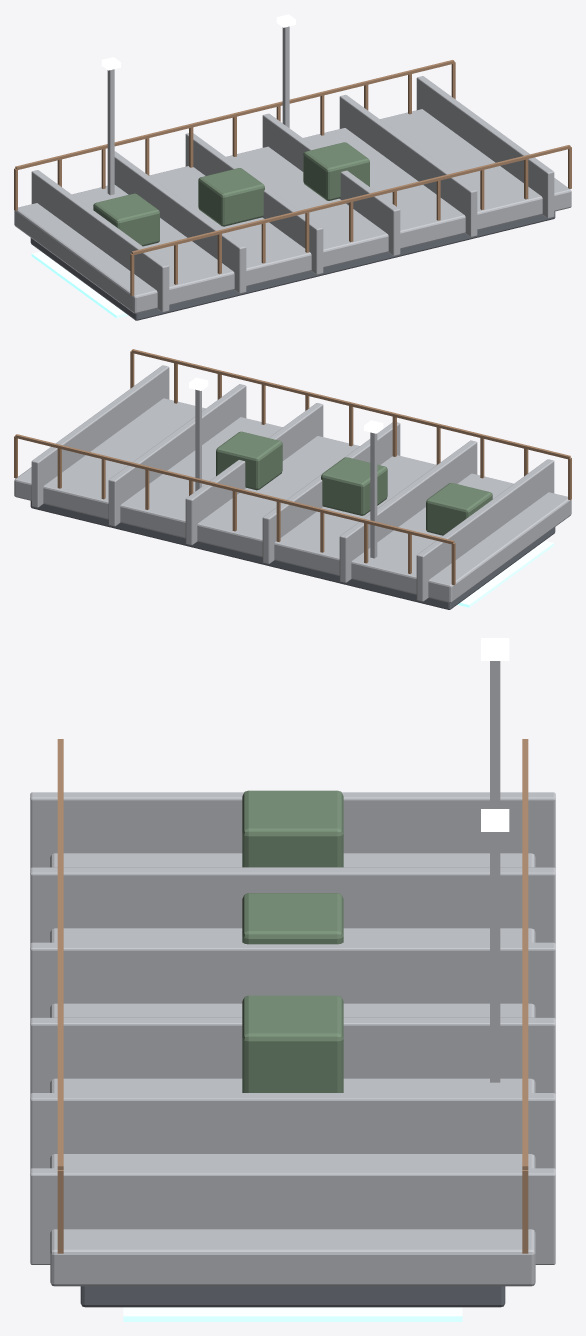
Rendered from bridgew_5.glb.
The picture shows the model from 3 angles, top to bottom: view 1: azimuth 30°, elevation 25°; view 2: azimuth 150°, elevation 25°; view 3: azimuth 270°, elevation 25°; orthographic projection. The views are drawn at different scales.
Visible parts, largest first — view 1: ext_bridge_floor, ext_bridge_ribs, ext_bridge_rail, ext_bridge_plants, ext_bridge_under, ext_bridge_glow, ext_lamp0, ext_lamp1; view 2: ext_bridge_floor, ext_bridge_ribs, ext_bridge_rail, ext_bridge_plants, ext_bridge_under, ext_bridge_glow, ext_lamp0, ext_lamp1; view 3: ext_bridge_ribs, ext_bridge_floor, ext_bridge_plants, ext_bridge_under, ext_bridge_rail, ext_bridge_glow, ext_lamp1, ext_lamp0.
Boxes of the visible parts, <box> form: ext_bridge_floor: <box>14,109,571,313</box>; ext_bridge_ribs: <box>31,76,554,312</box>; ext_bridge_rail: <box>14,60,571,295</box>; ext_bridge_plants: <box>93,142,369,246</box>; ext_bridge_under: <box>30,211,555,320</box>; ext_bridge_glow: <box>31,251,128,318</box>; ext_lamp0: <box>107,69,114,195</box>; ext_lamp1: <box>282,26,289,127</box>; ext_bridge_floor: <box>14,398,571,602</box>; ext_bridge_ribs: <box>31,365,554,601</box>; ext_bridge_rail: <box>14,349,571,585</box>; ext_bridge_plants: <box>216,431,492,535</box>; ext_bridge_under: <box>30,501,555,609</box>; ext_bridge_glow: <box>457,540,554,607</box>; ext_lamp0: <box>370,432,377,558</box>; ext_lamp1: <box>195,389,201,491</box>; ext_bridge_ribs: <box>30,792,555,1264</box>; ext_bridge_floor: <box>50,853,535,1286</box>; ext_bridge_plants: <box>242,790,343,1092</box>; ext_bridge_under: <box>80,1286,505,1307</box>; ext_bridge_rail: <box>57,739,528,1253</box>; ext_bridge_glow: <box>123,1307,462,1321</box>; ext_lamp1: <box>490,832,500,1082</box>; ext_lamp0: <box>490,661,500,808</box>.
Bounding box in the file's own units: 5.03 × 1.83 × 2.6.
